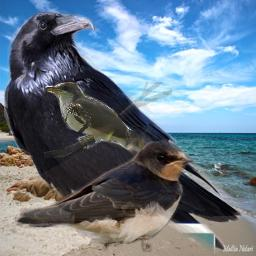Crow: (4, 10, 243, 253)
Cuckoo: (44, 82, 172, 192)
Swallow: (15, 138, 194, 252)
